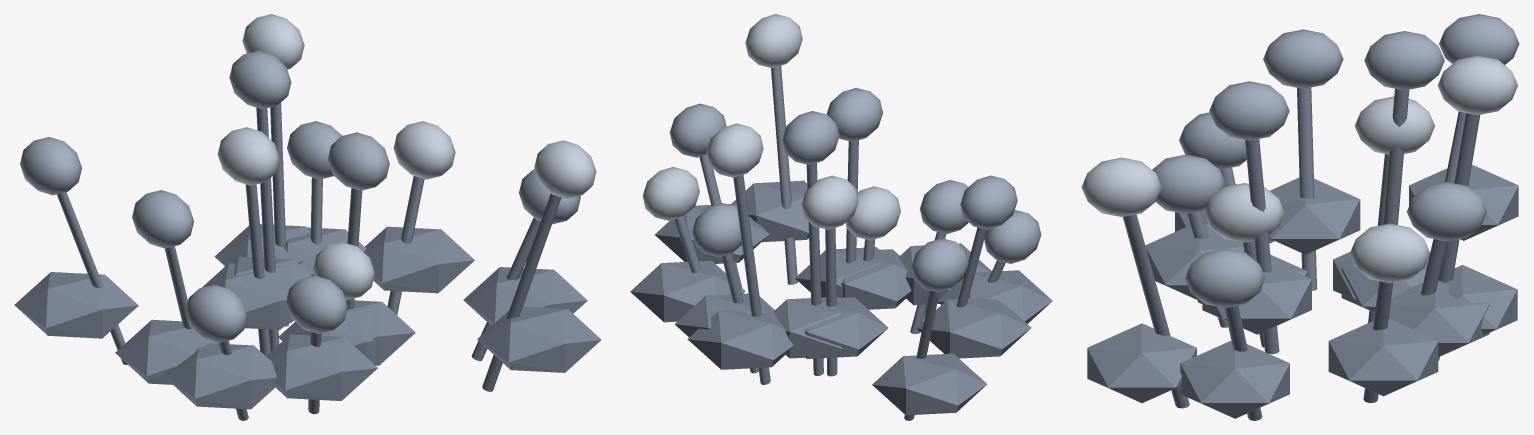
Rendered from garden-flowers-wild.glb.
The picture shows the model from 3 angles, left to right: view 1: azimuth 30°, elevation 25°; view 2: azimuth 150°, elevation 25°; view 3: azimuth 270°, elevation 25°; orthographic projection. The views are drawn at different scales.
Visible parts, largest first — view 1: garden-flowers-wild; view 2: garden-flowers-wild; view 3: garden-flowers-wild.
Boxes of the visible parts, box(x1,y1,x2,y2) form: garden-flowers-wild: box(14, 14, 601, 420); garden-flowers-wild: box(630, 14, 1052, 420); garden-flowers-wild: box(1081, 14, 1519, 420).
Size of the model in its own units: 1.1 by 0.7 by 0.9.
